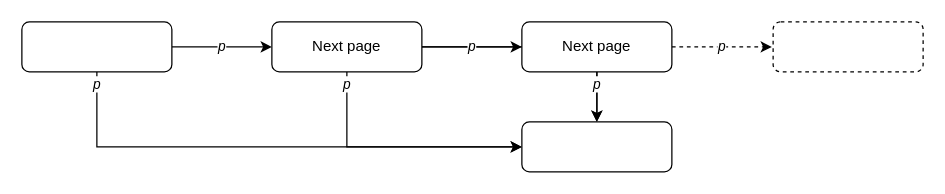
This 945x194 diagram has some shape labels left out. Each missing label, with the centre of its shape:
Entry page: the point at 96,46
Exit: the point at 596,146
